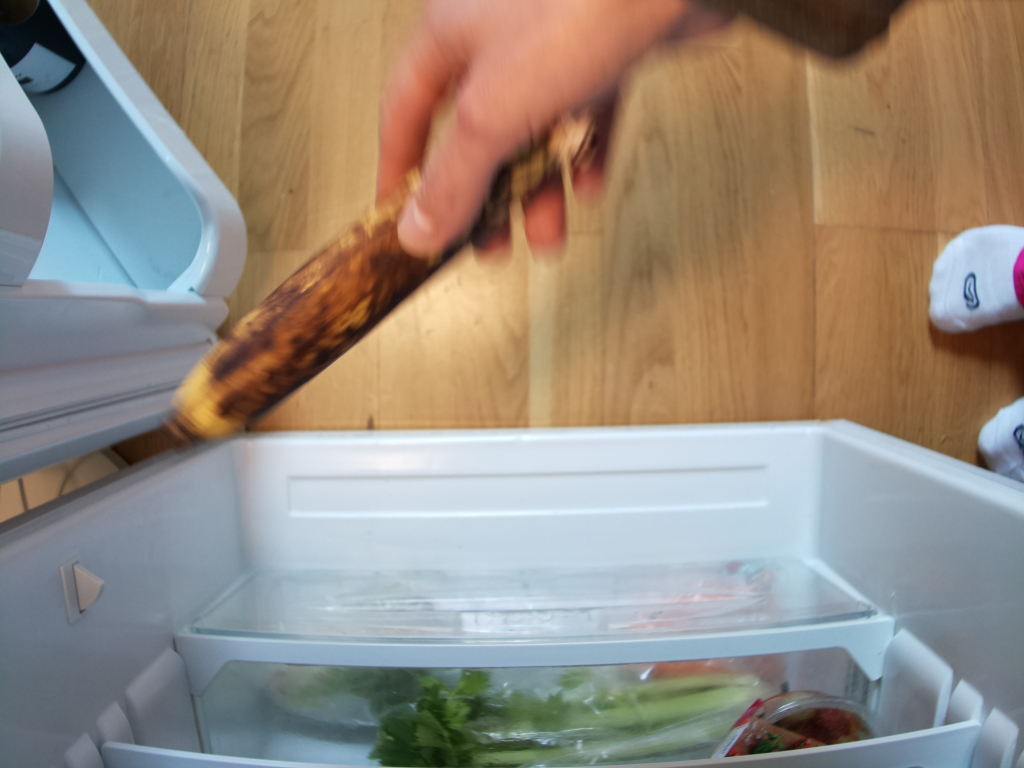banana-overripe: (161, 94, 601, 452)
